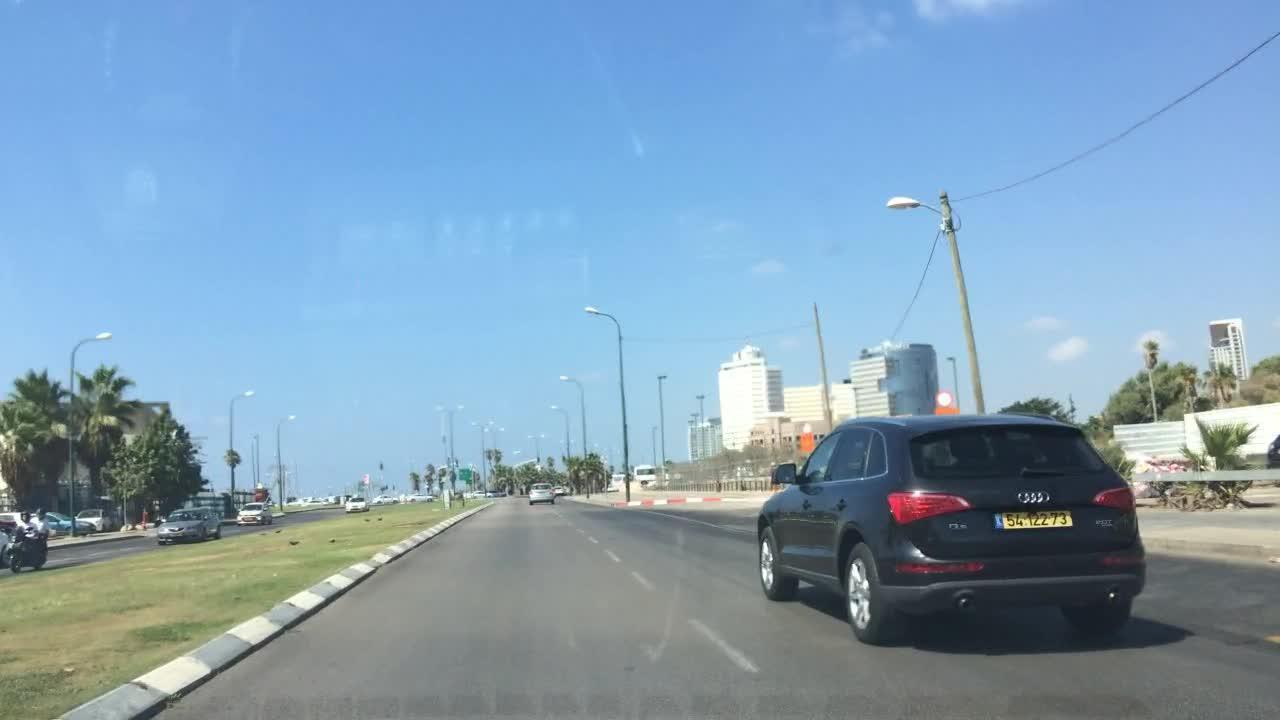Audi: (1001, 484, 1061, 510)
